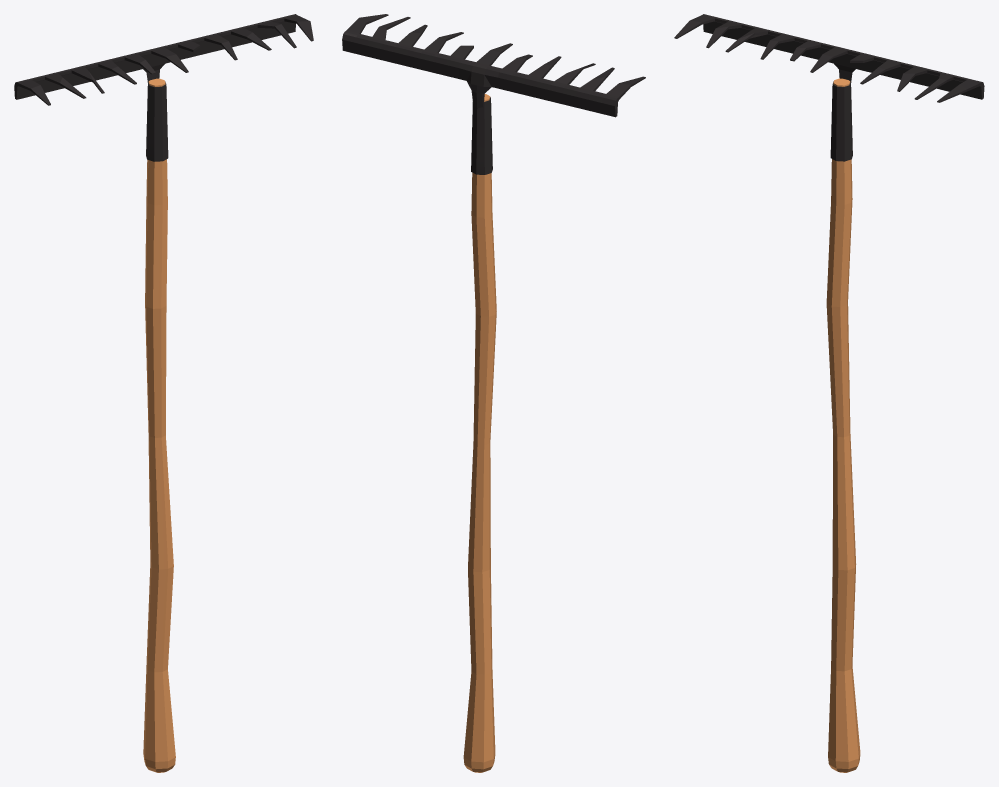
3 renders of one model, left to right at view 1: azimuth 30°, elevation 25°; view 2: azimuth 150°, elevation 25°; view 3: azimuth 330°, elevation 25°, orthographic. The views are drawn at different scales.
Size of the model in its own units: 3.46 by 8.59 by 0.8666.
3 materials, 3 textured.
